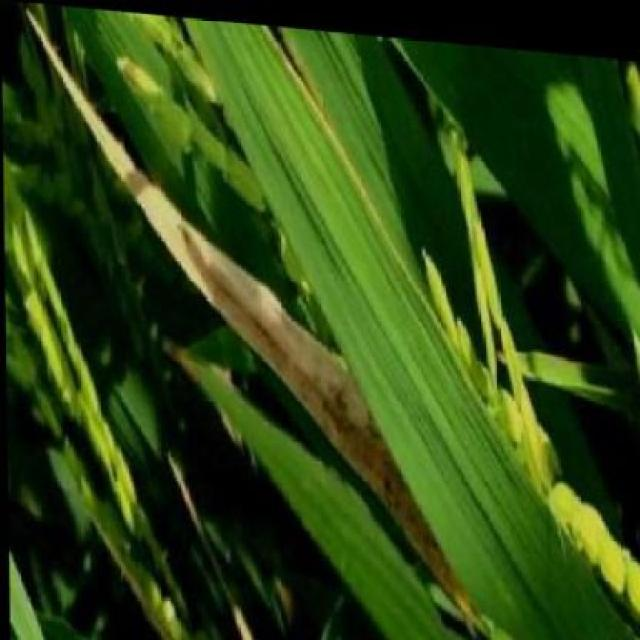Brown_Spot: (246, 20, 380, 218)
